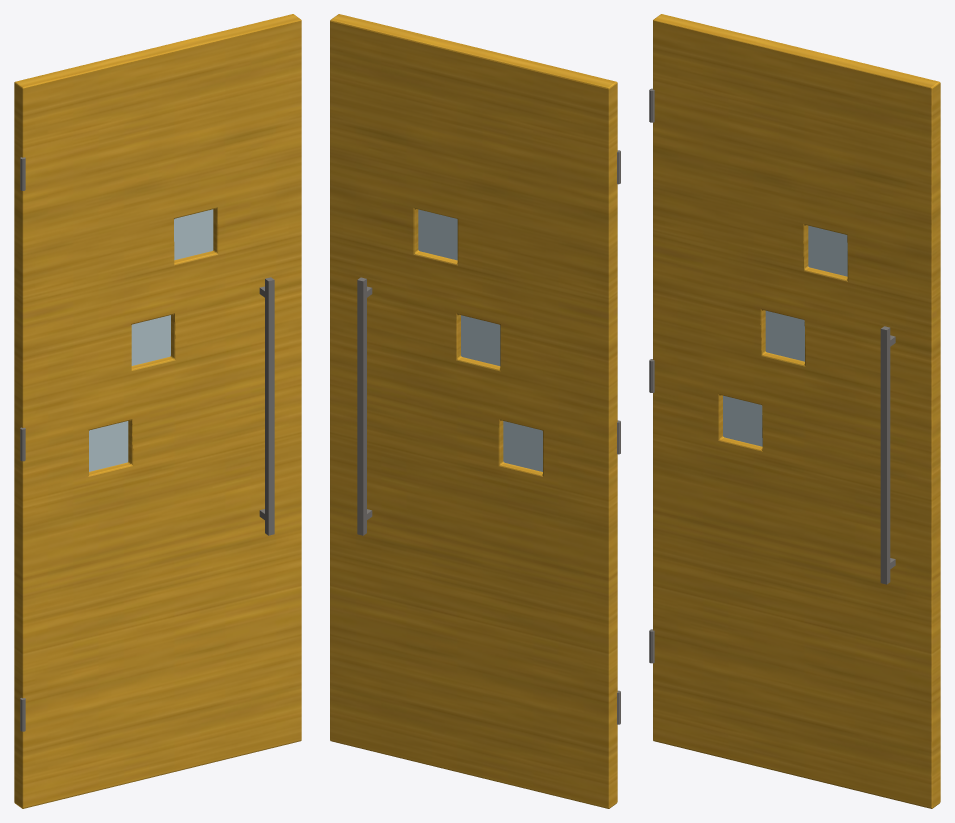
File: door_leaf_entry.glb
3 views of the same model, side by side, from view 1: azimuth 30°, elevation 25°; view 2: azimuth 150°, elevation 25°; view 3: azimuth 330°, elevation 25° (orthographic).
Parts seen in each view (by area): view 1: door_leaf_entry_door, door_leaf_entry_glass, door_leaf_entry_metal; view 2: door_leaf_entry_door, door_leaf_entry_glass, door_leaf_entry_metal; view 3: door_leaf_entry_door, door_leaf_entry_glass, door_leaf_entry_metal.
Boxes of the visible parts, x1,y1,x2,y2 form: door_leaf_entry_door: (14,14,301,808); door_leaf_entry_glass: (89,209,213,471); door_leaf_entry_metal: (20,157,274,731); door_leaf_entry_door: (330,14,617,808); door_leaf_entry_glass: (418,209,542,471); door_leaf_entry_metal: (357,150,620,724); door_leaf_entry_door: (653,14,940,808); door_leaf_entry_glass: (723,225,847,446); door_leaf_entry_metal: (649,88,895,663).
Size of the model in its own units: 0.928 by 2.27 by 0.15.
Materials: 3 (1 with a texture image).
